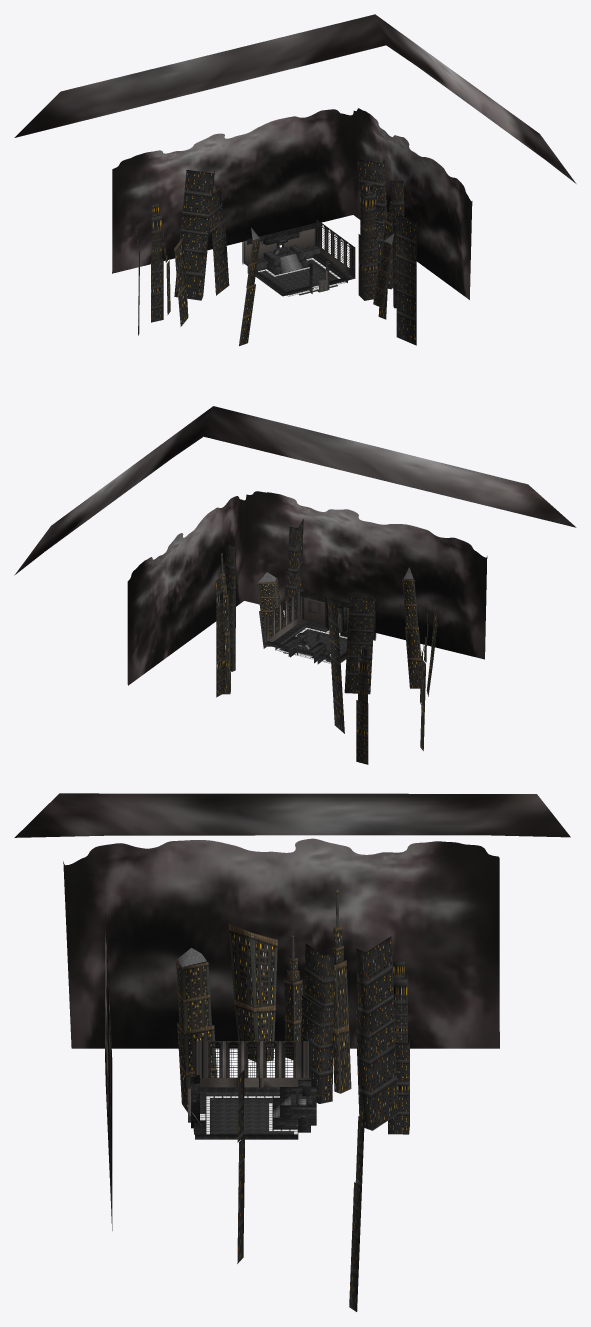
The model's file is cashbot_lobby.glb.
3 renders of one model, top to bottom at view 1: azimuth 30°, elevation 25°; view 2: azimuth 150°, elevation 25°; view 3: azimuth 270°, elevation 25°, orthographic. The views are drawn at different scales.
Parts seen in each view (by area): view 1: SkyBox, FinalSky_StationGeometryAll, BLD12, BGBuildings1_BLD14, BGBuildings1_BLD16, BGBuildings1_BLD8, BLD1, BLD20, CFOLobbyFloor, BLD19, BGBuildings1_BLD13, BLD4 (+2 smaller); view 2: SkyBox, FinalSky_StationGeometryAll, BLD1, BLD19, BLD20, BLD12, BGBuildings1_BLD14, BGBuildings1_BLD18, BGBuildings1_BLD13, BGBuildings1_BLD16, BGBuildings1_BLD9, CFOLobbySideWall2 (+3 smaller); view 3: SkyBox, FinalSky_StationGeometryAll, BLD12, BLD4, BLD1, BLD19, CFOLobbySideWall1, CFOLobbyFloor, BLD20, BLD10, BGBuildings1_BLD8, BLD5 (+2 smaller).
Part boxes in pixels (box(x1,y1,x2,y2)): SkyBox: box(112, 108, 472, 299); FinalSky_StationGeometryAll: box(14, 14, 576, 183); BLD12: box(174, 169, 214, 300); BGBuildings1_BLD14: box(396, 213, 416, 345); BGBuildings1_BLD16: box(358, 181, 377, 300); BGBuildings1_BLD8: box(357, 159, 392, 289); BLD1: box(208, 189, 229, 295); BLD20: box(151, 204, 163, 322); CFOLobbyFloor: box(258, 258, 346, 296); BLD19: box(239, 227, 260, 346); BGBuildings1_BLD13: box(391, 181, 404, 308); BLD4: box(174, 236, 188, 326); SkyBox: box(127, 491, 487, 685); FinalSky_StationGeometryAll: box(14, 406, 576, 575); BLD1: box(344, 597, 375, 694); BLD19: box(402, 567, 421, 688); BLD20: box(356, 646, 368, 764); BLD12: box(327, 596, 344, 733); BGBuildings1_BLD14: box(283, 519, 303, 653); BGBuildings1_BLD18: box(257, 572, 284, 646); BGBuildings1_BLD13: box(225, 543, 236, 671); BGBuildings1_BLD16: box(215, 578, 224, 697); BGBuildings1_BLD9: box(220, 553, 230, 694); CFOLobbySideWall2: box(263, 589, 302, 648); SkyBox: box(63, 838, 499, 1230); FinalSky_StationGeometryAll: box(14, 793, 570, 837); BLD12: box(355, 936, 397, 1130); BLD4: box(228, 923, 277, 1061); BLD1: box(301, 943, 334, 1103); BLD19: box(176, 948, 216, 1112); CFOLobbySideWall1: box(194, 1041, 311, 1087); CFOLobbyFloor: box(193, 1096, 298, 1134); BLD20: box(388, 959, 409, 1134); BLD10: box(332, 890, 351, 1093); BGBuildings1_BLD8: box(349, 1116, 364, 1311); BLD5: box(284, 935, 302, 1059).
Bounding box in the file's own units: 1813 × 1009 × 1595.
20 materials, 19 textured.
